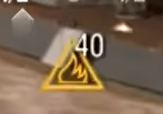1fire: (37, 58, 107, 92)
